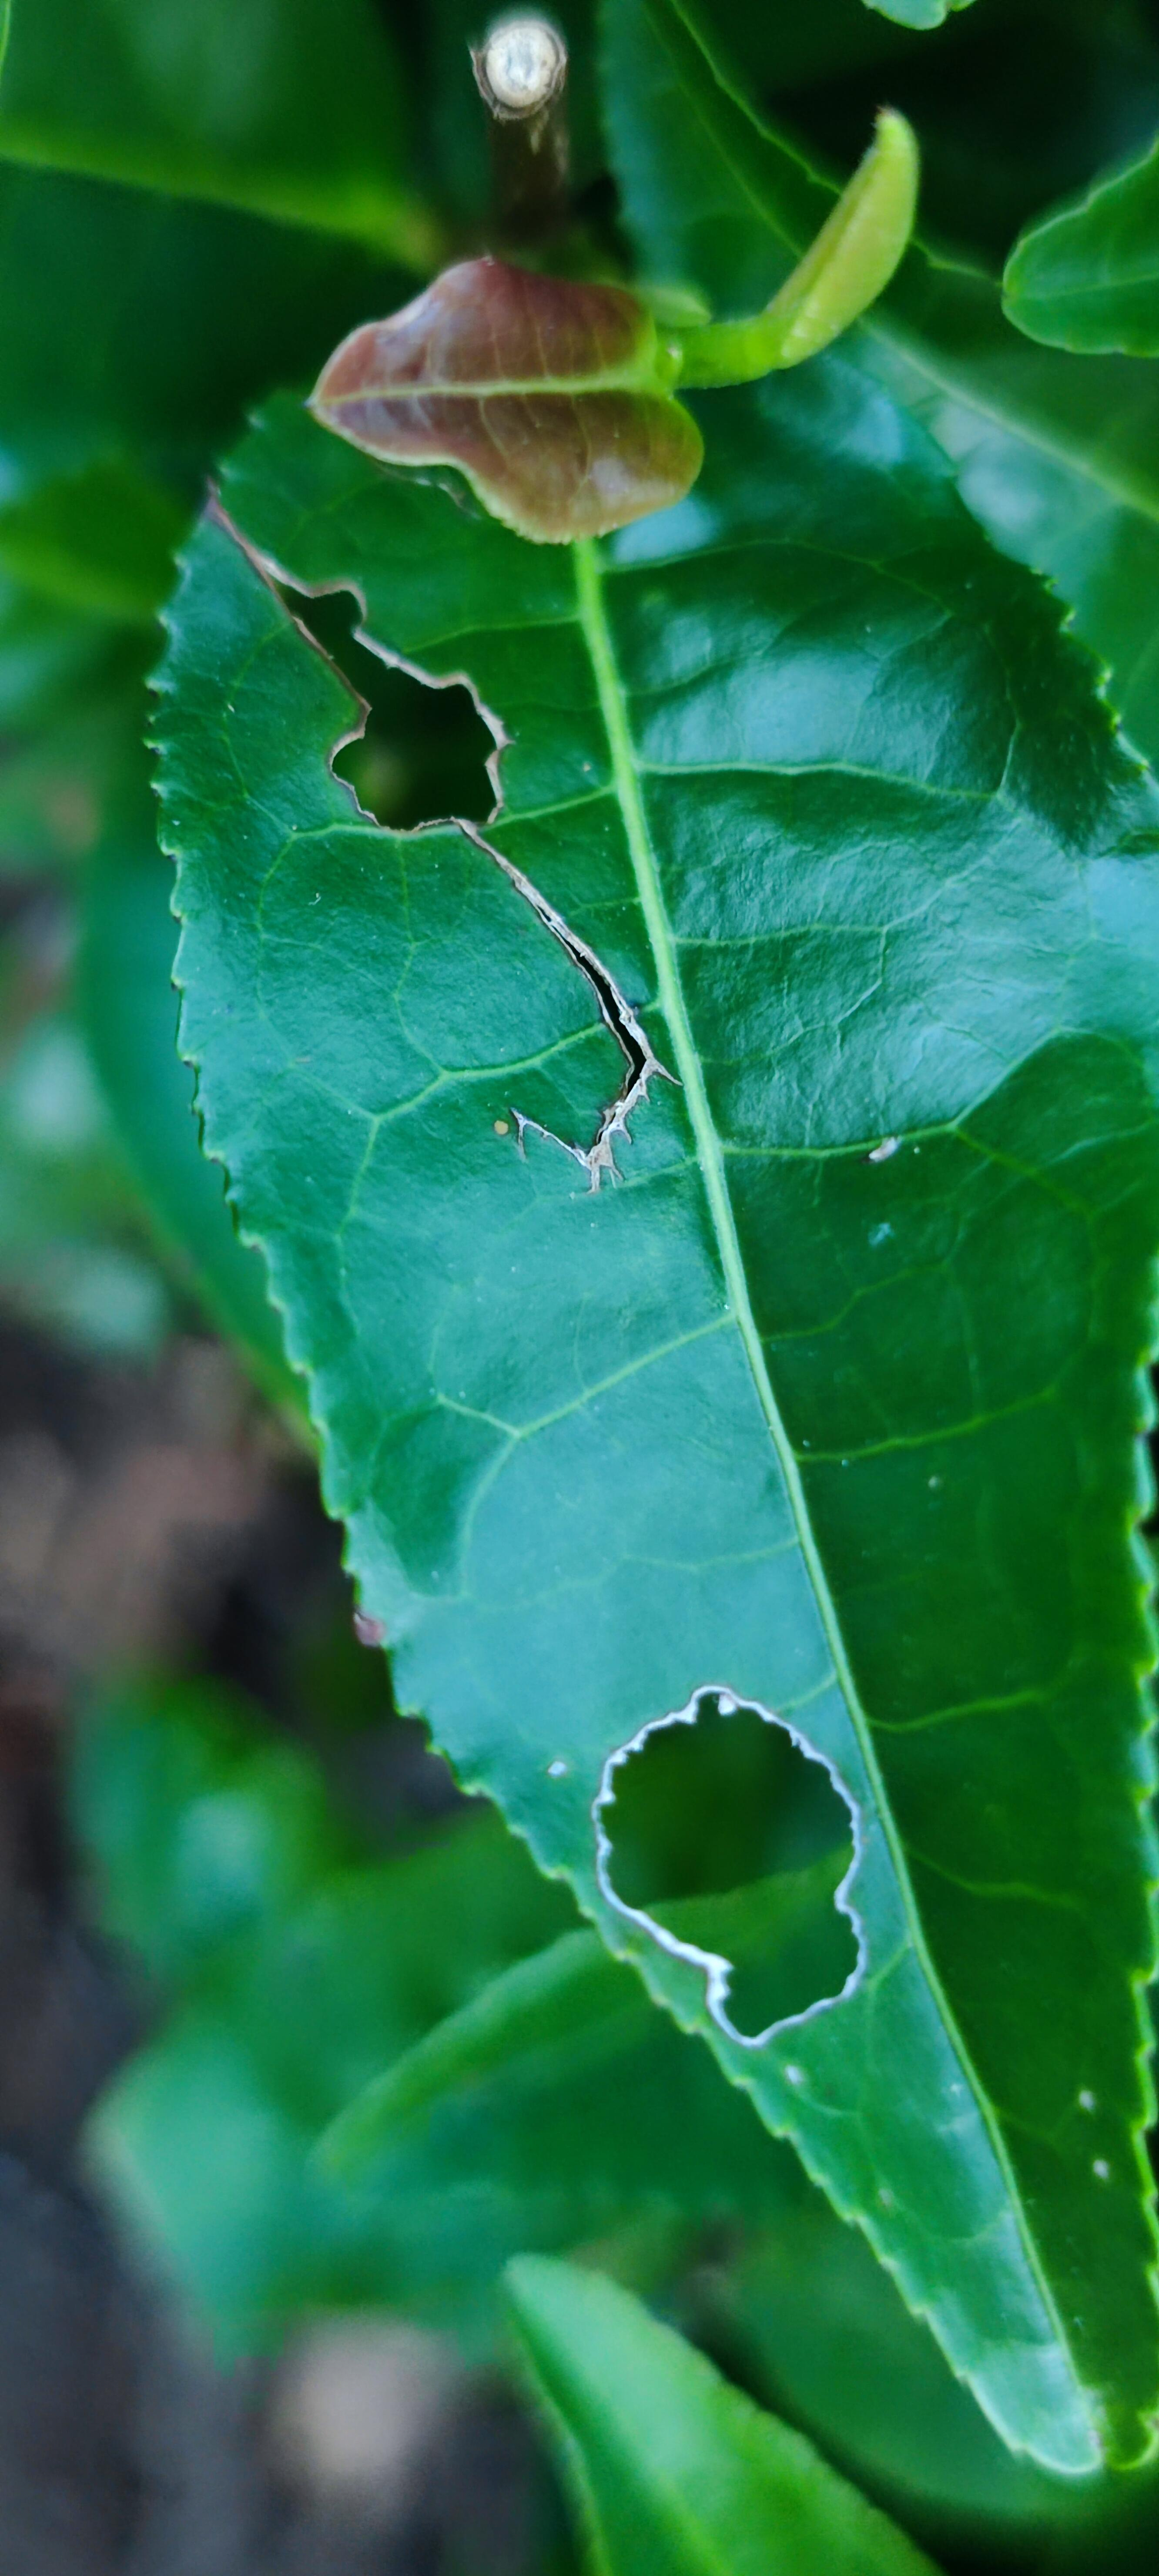chihuo_high: (136, 289, 1154, 2476)
tanju_low: (297, 251, 712, 550)
